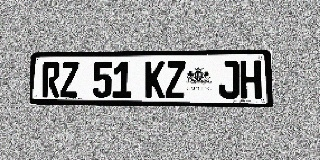1: (112, 61, 132, 98)
5: (93, 62, 112, 98)
H: (240, 60, 262, 99)
J: (219, 60, 240, 99)
K: (145, 61, 165, 98)
R: (42, 62, 60, 98)
Z: (166, 61, 185, 98), (60, 62, 79, 98)
